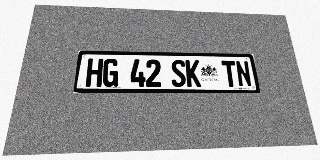2: (146, 59, 161, 87)
4: (130, 59, 146, 87)
G: (102, 59, 119, 87)
H: (85, 58, 103, 87)
K: (185, 60, 201, 87)
N: (235, 61, 252, 87)
S: (171, 60, 186, 87)
T: (221, 60, 238, 87)
